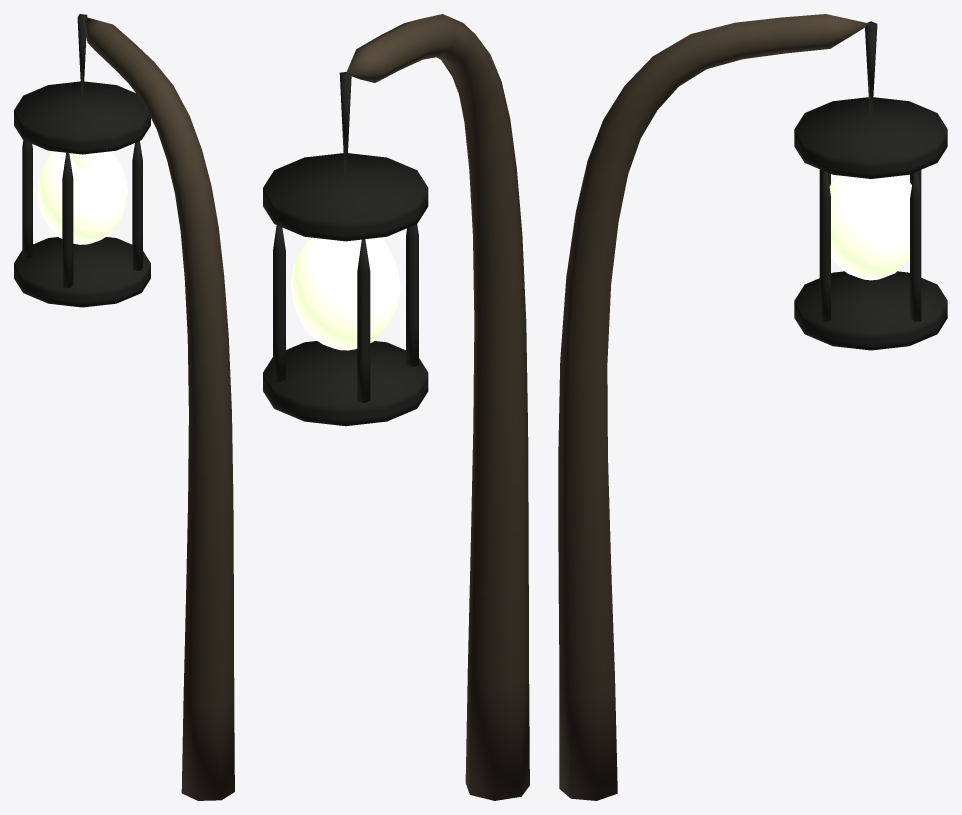
Rendered from WispLantern.fbx.
The picture shows the model from 3 angles, left to right: view 1: azimuth 30°, elevation 25°; view 2: azimuth 150°, elevation 25°; view 3: azimuth 270°, elevation 25°; orthographic projection. The views are drawn at different scales.
Parts seen in each view (by area): view 1: WispLantern, WispLantern_Glow; view 2: WispLantern, WispLantern_Glow; view 3: WispLantern, WispLantern_Glow.
Part boxes in pixels (box(x1,y1,x2,y2)): WispLantern: box(14, 14, 234, 800); WispLantern_Glow: box(37, 151, 127, 244); WispLantern: box(263, 14, 529, 800); WispLantern_Glow: box(290, 237, 400, 350); WispLantern: box(558, 14, 947, 800); WispLantern_Glow: box(829, 175, 911, 280).
Bounding box in the file's own units: 60 × 334 × 152.
2 materials, 1 textured.
